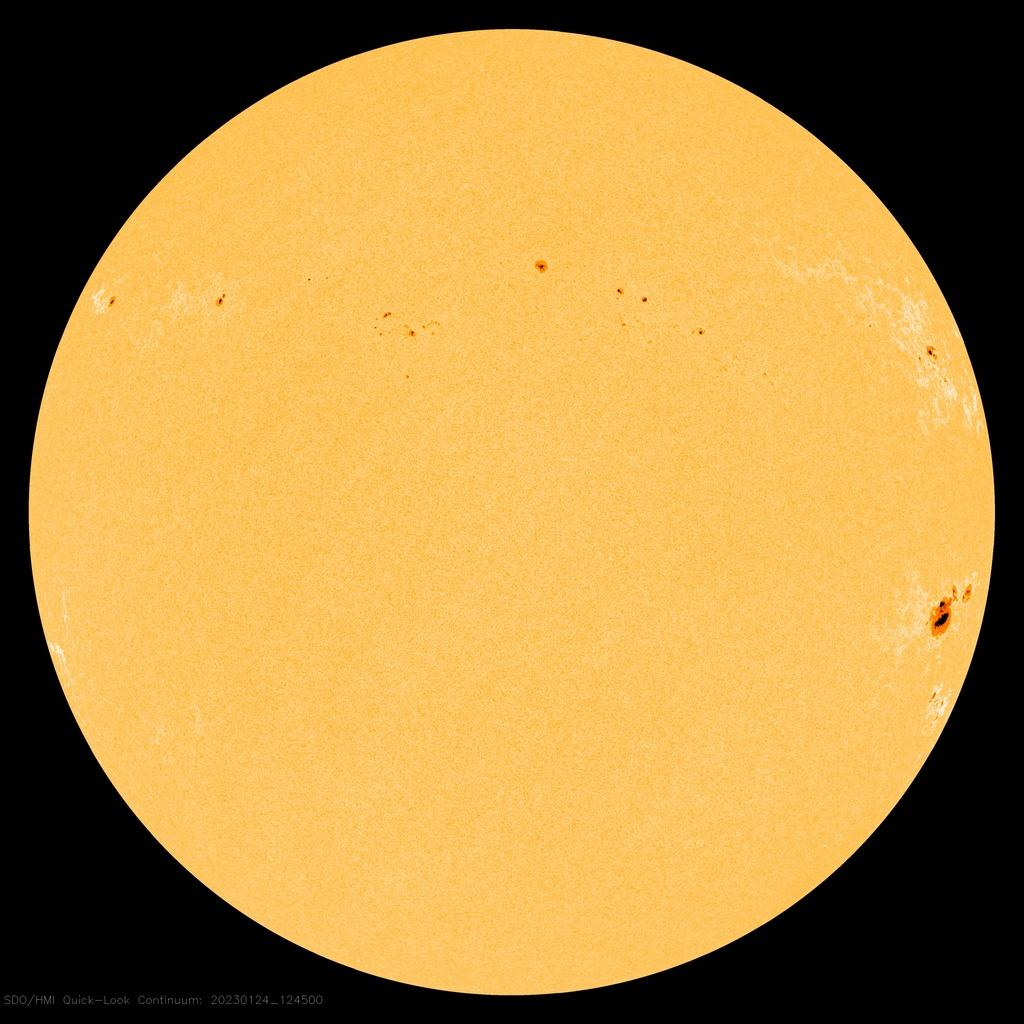flare: (528, 252, 715, 345), (367, 298, 448, 384), (922, 578, 982, 644), (915, 331, 946, 379), (100, 285, 124, 318), (210, 281, 231, 315)
